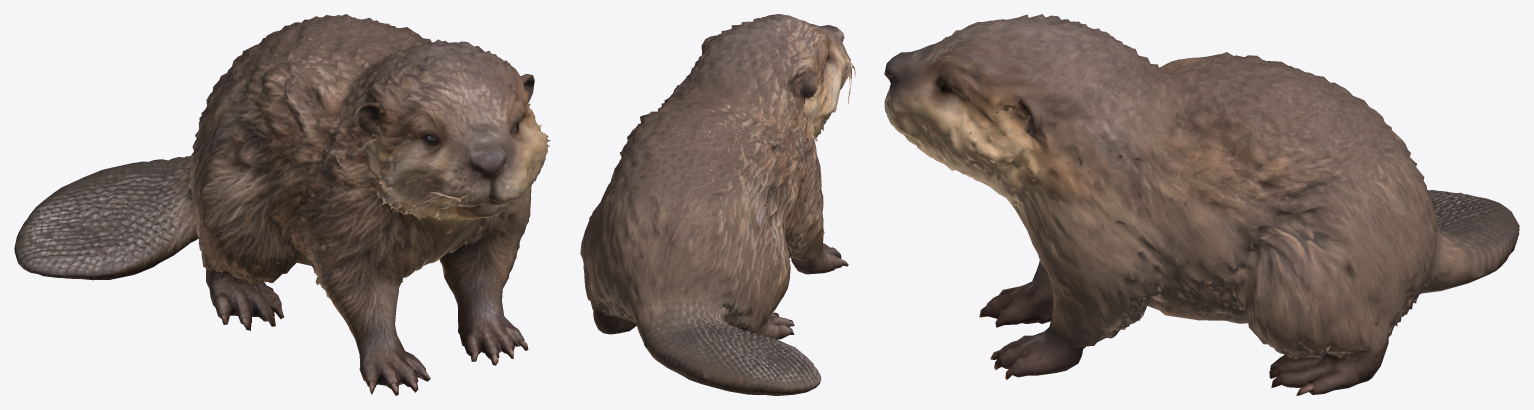
Rendered from kit-hide.glb.
3 renders of one model, left to right at view 1: azimuth 30°, elevation 25°; view 2: azimuth 150°, elevation 25°; view 3: azimuth 270°, elevation 25°, orthographic. The views are drawn at different scales.
Parts seen in each view (by area): view 1: Hide; view 2: Hide; view 3: Hide.
Boxes of the visible parts, x1,y1,x2,y2 form: Hide: [14, 14, 550, 395]; Hide: [580, 14, 855, 395]; Hide: [884, 14, 1519, 395].
Bounding box in the file's own units: 0.4011 × 0.3318 × 0.5802.
Materials: 1 (1 with a texture image).
